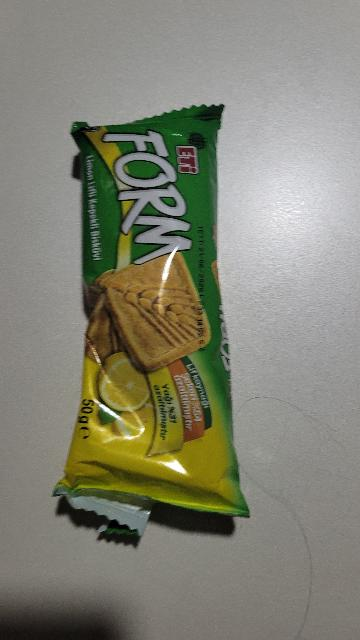Plastik: (36, 89, 260, 538)
